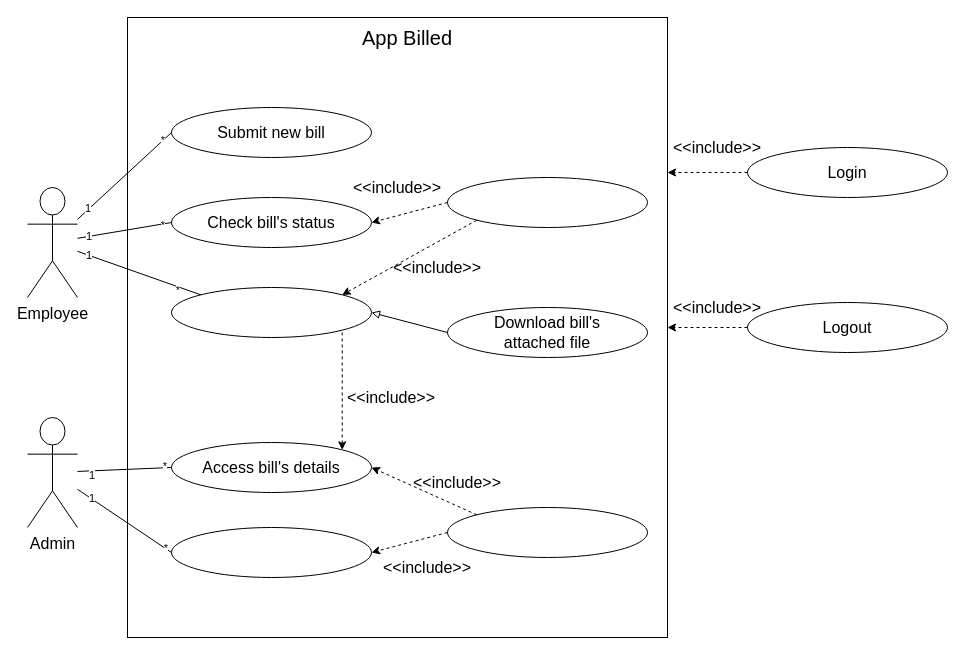
The diagram is 965 pixels wide and 655 high, and some of its shapes have lost their labels. Here are the shapes that lost their labels. From the top down, the centre of each, then its label:
pixel 547 202: Access personnal summary table
pixel 271 312: Display bill's attached file
pixel 271 552: Approve/deny submitted bill
pixel 547 532: Access dashboard
